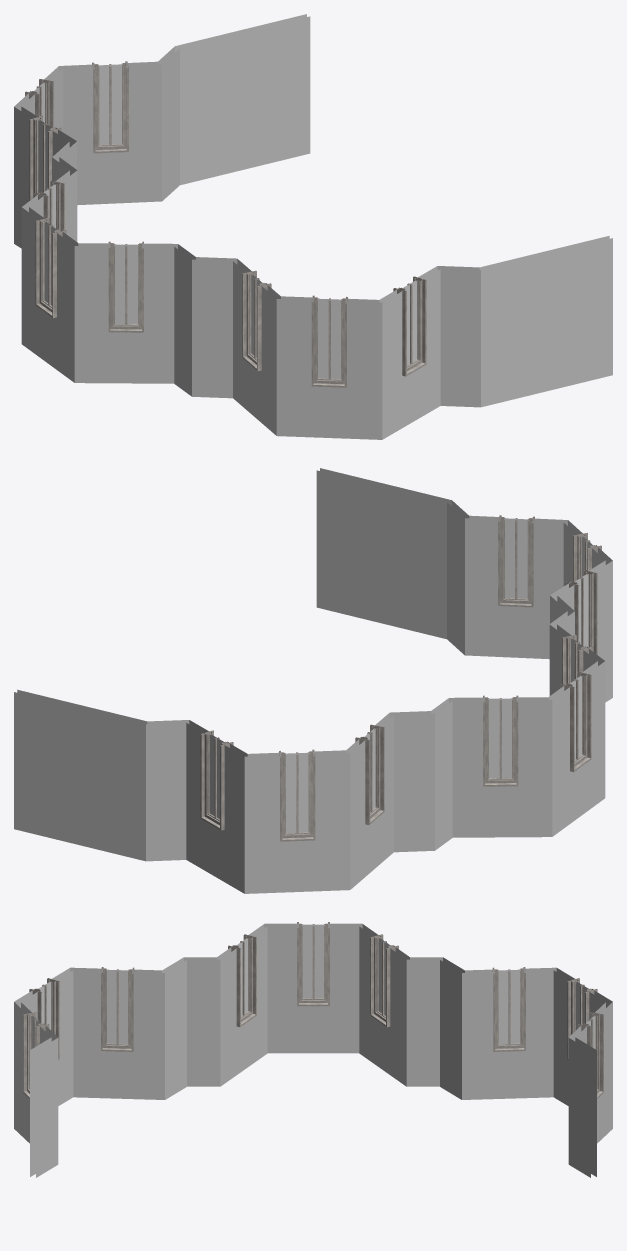
Rendered from Ambulatory_Outer_D_F.fbx.
3 views of the same model, one above another, from view 1: azimuth 30°, elevation 25°; view 2: azimuth 150°, elevation 25°; view 3: azimuth 270°, elevation 25° (orthographic). The views are drawn at different scales.
Parts seen in each view (by area): view 1: Ambulatory_Outer_D_F; view 2: Ambulatory_Outer_D_F; view 3: Ambulatory_Outer_D_F.
Part boxes in pixels (x1,y1,x2,y2): Ambulatory_Outer_D_F: (14,14,612,439); Ambulatory_Outer_D_F: (14,468,612,893); Ambulatory_Outer_D_F: (14,922,612,1177).
Bounding box in the file's own units: 19.02 × 25.64 × 6.
